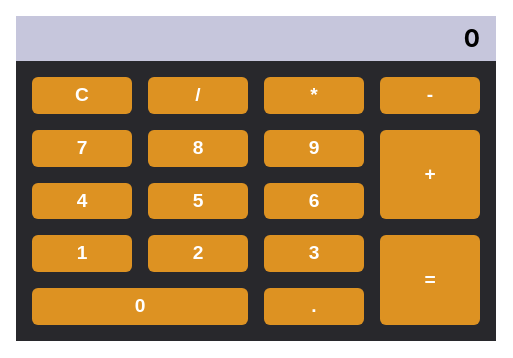
Test: <Calculator /> › display to show seven after clicking first number button
This screenshot has width=513, height=358.
Step 1. Click the button "7" → {"x": 82, "y": 148}, box [32,130,132,166]
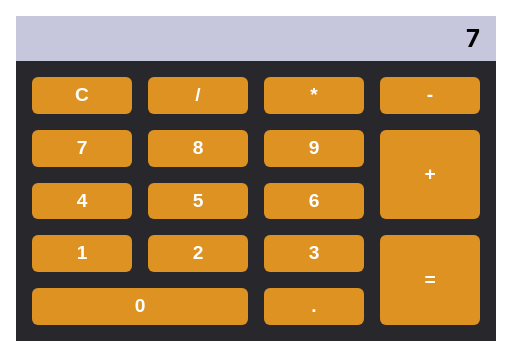
Expected: the heading with class "Calculator-result" reads "7", [466,24,480,53]
